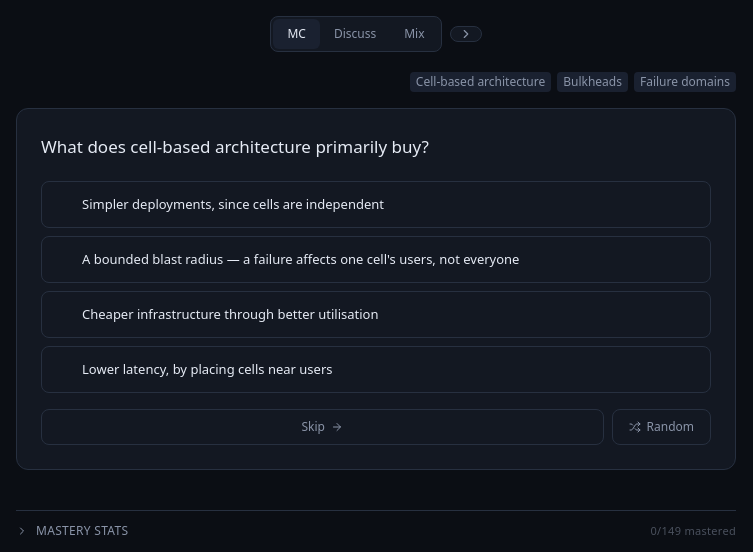
Test: DrillSession › hides the model answer until you have committed to one
This screenshot has width=753, height=552.
Click the radio button labelled "Discuss" at (355, 34), box x1=320 y1=19 x2=390 y2=49
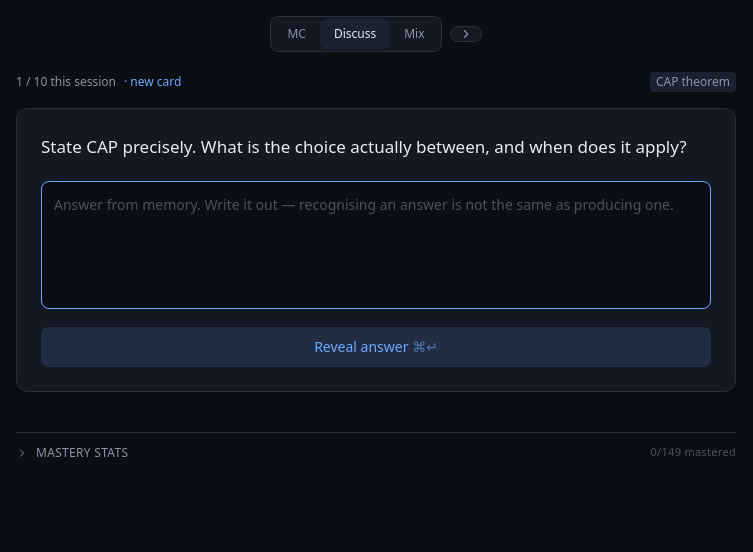
Expected: the text box is shown, x1=41 y1=181 x2=711 y2=309
Expected: the button "Reveal answer ⌘↵" is shown, x1=41 y1=327 x2=711 y2=367
